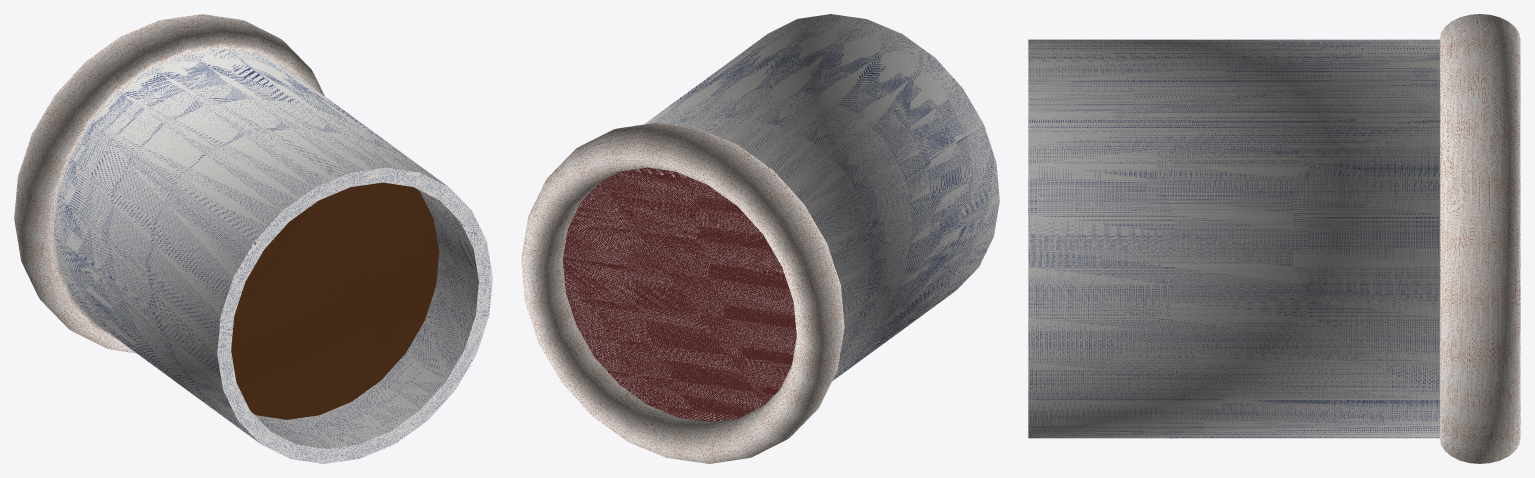
Rendered from model_scale.obj.
3 renders of one model, left to right at view 1: azimuth 30°, elevation 25°; view 2: azimuth 150°, elevation 25°; view 3: azimuth 270°, elevation 25°, orthographic. The views are drawn at different scales.
Visible parts, largest first — view 1: mesh1_mesh1-geometry; view 2: mesh1_mesh1-geometry; view 3: mesh1_mesh1-geometry.
Part boxes in pixels (<box>): mesh1_mesh1-geometry: <box>14,14,492,463</box>; mesh1_mesh1-geometry: <box>521,14,999,463</box>; mesh1_mesh1-geometry: <box>1028,14,1520,463</box>.
Size of the model in its own units: 0.0845 by 0.0845 by 0.0918.
